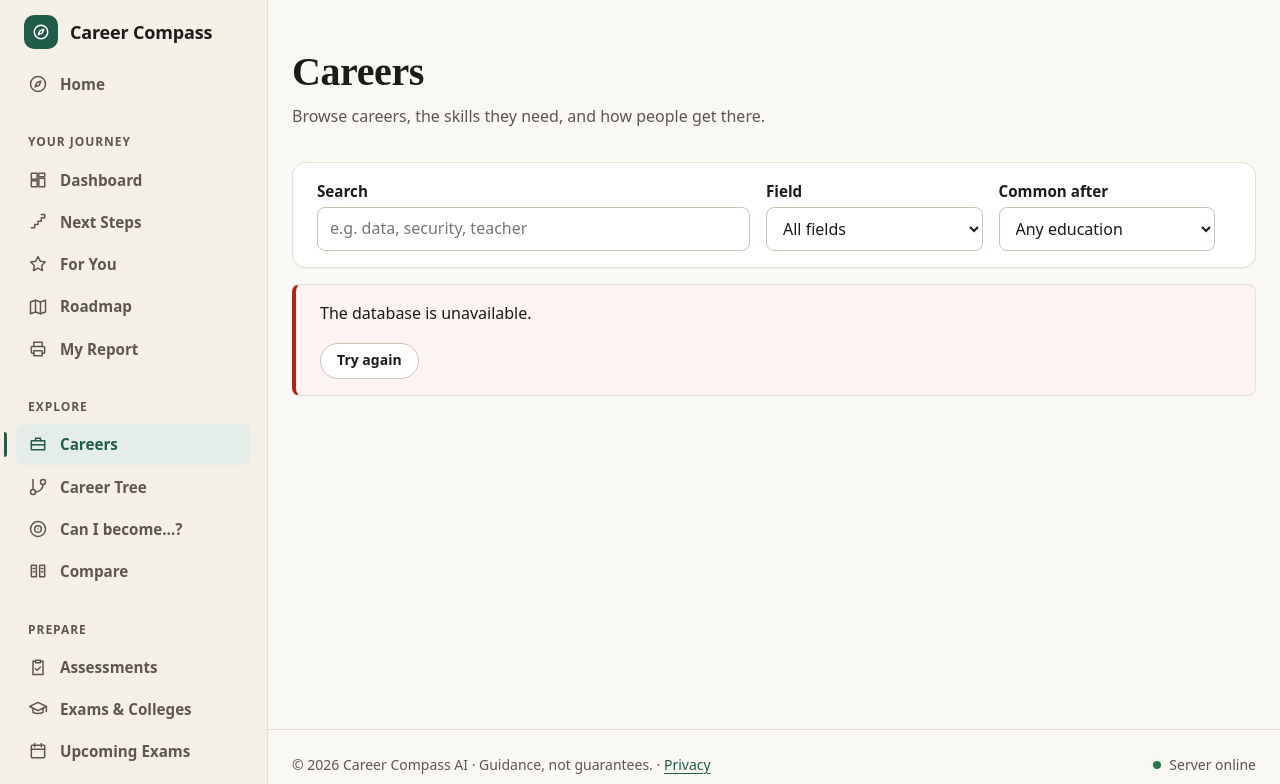
Test: Careers directory › shows an error with retry
The image size is (1280, 784).
Expected: the message "The database is unavailable. Try again" is shown, x1=292 y1=284 x2=1256 y2=396
Click the button "Try again": (369, 360) x1=320 y1=342 x2=419 y2=378
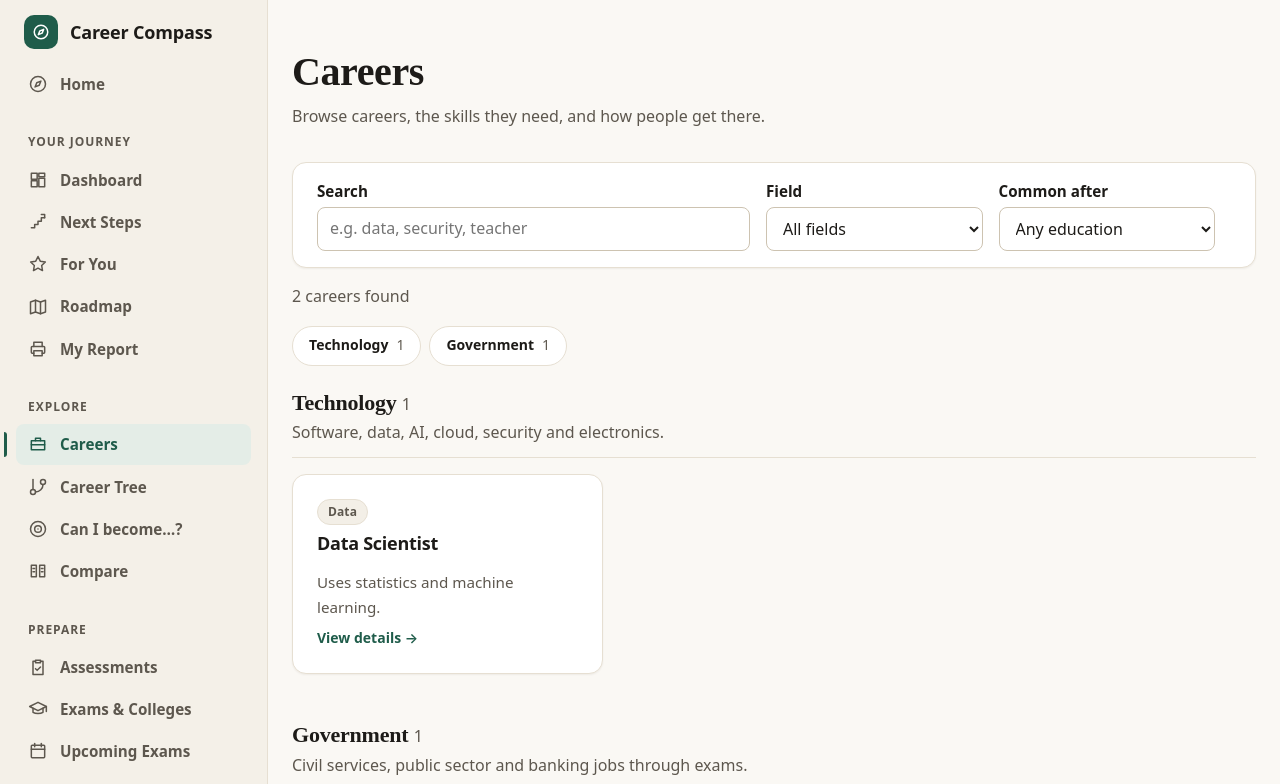
Expected: the heading "Data Scientist" is shown, x1=317 y1=531 x2=438 y2=555
